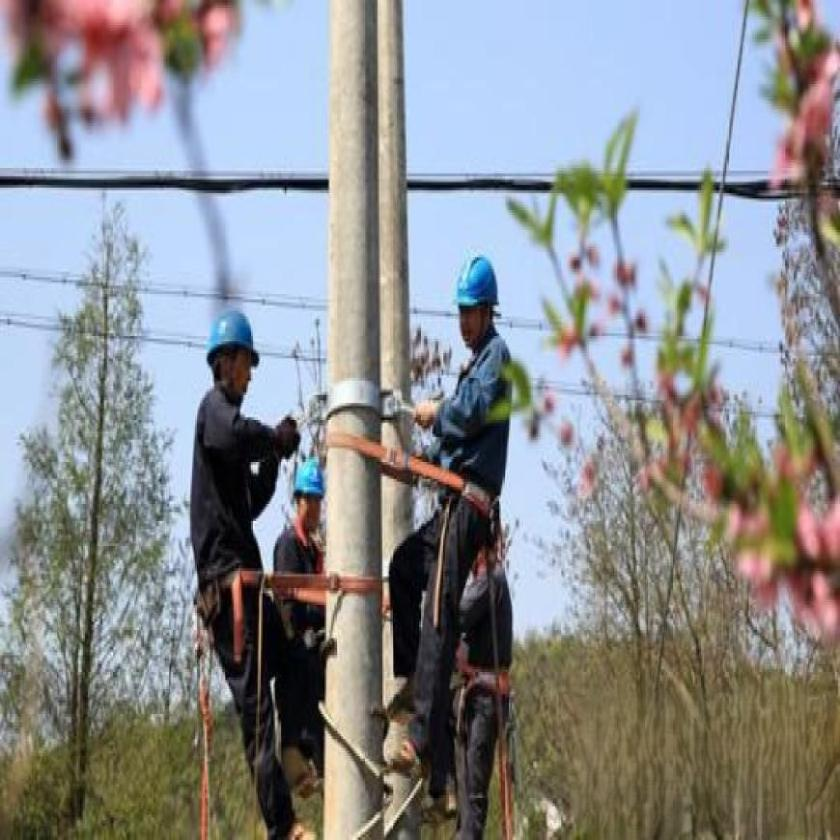Con_casco: (203, 303, 260, 416), (450, 254, 499, 347), (293, 455, 333, 548)
